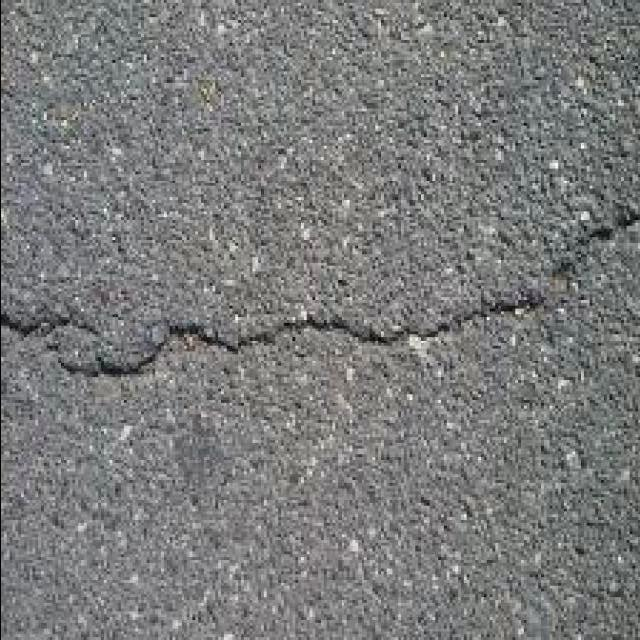SurfaceCrack: (4, 172, 640, 410)
